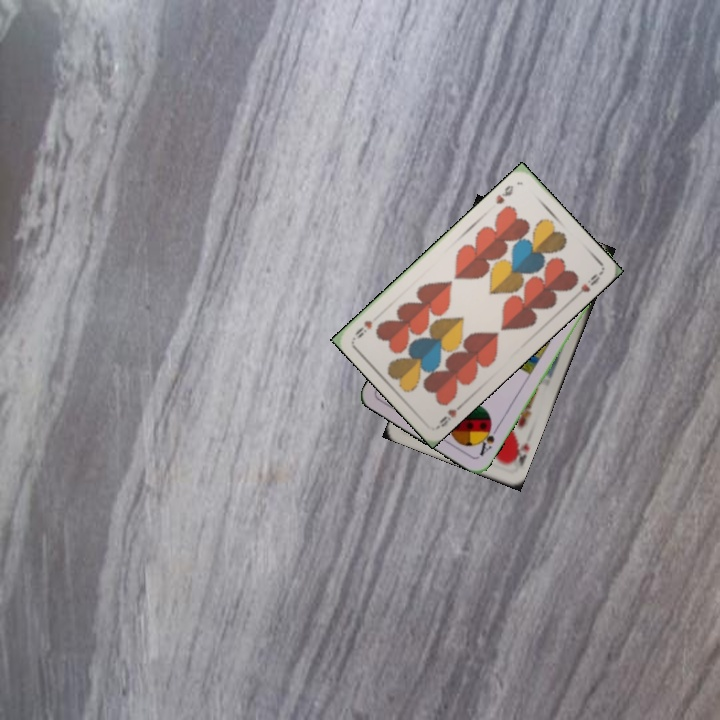H9: (433, 399, 467, 430), (492, 181, 516, 207)
HK: (505, 435, 532, 469)
SA: (474, 419, 501, 459)
